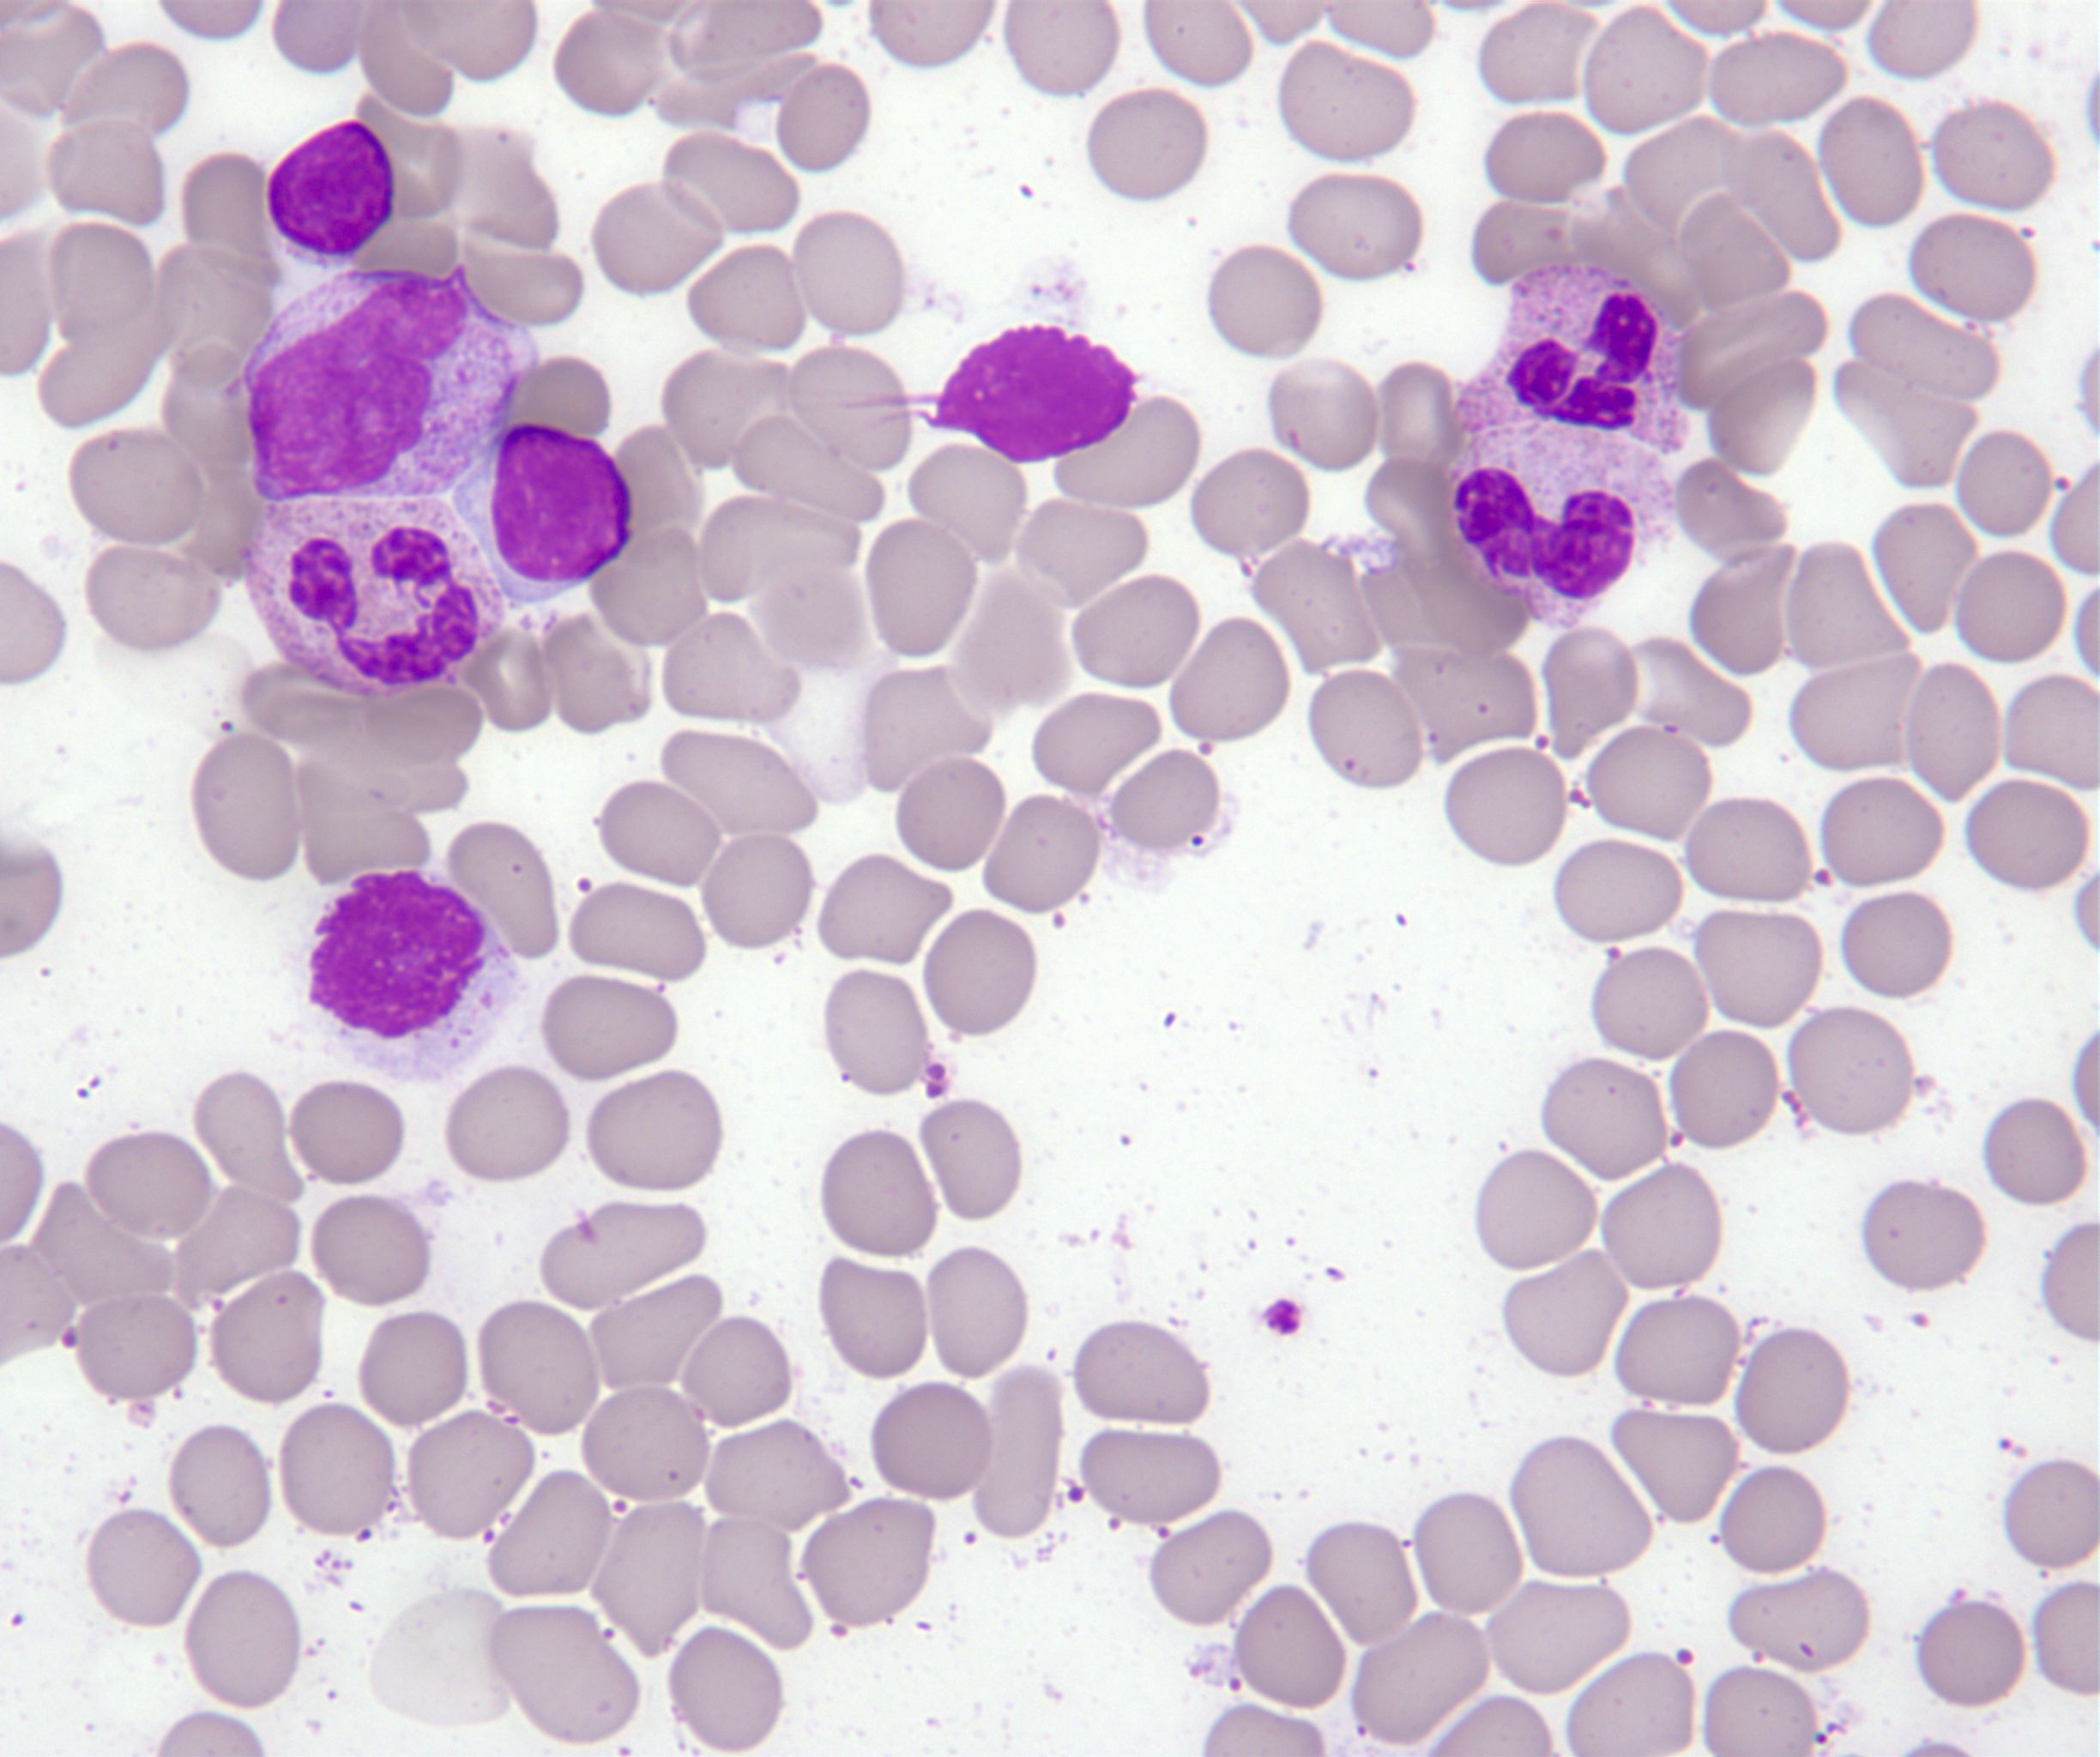32: (448, 419, 638, 607), (256, 112, 398, 269)
42: (234, 258, 542, 502)
5: (1441, 427, 1680, 635)
6: (242, 494, 511, 703), (1449, 262, 1697, 459)
x: (305, 860, 525, 1089), (924, 316, 1141, 466)
